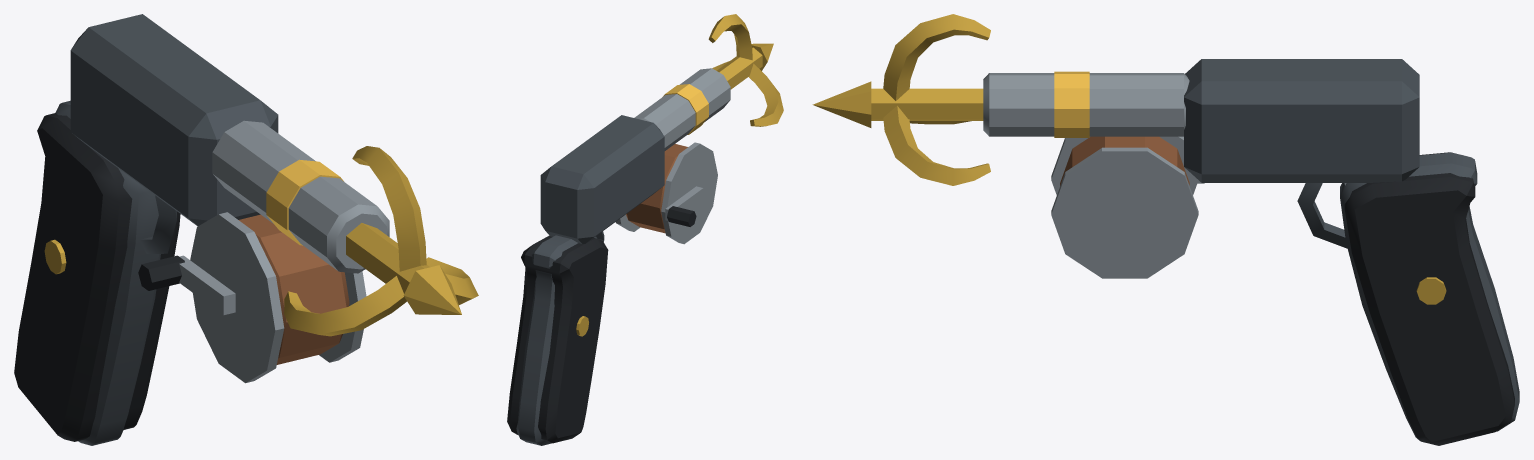
Rendered from Tool_Grapple.fbx.
3 renders of one model, left to right at view 1: azimuth 30°, elevation 25°; view 2: azimuth 150°, elevation 25°; view 3: azimuth 270°, elevation 25°, orthographic. The views are drawn at different scales.
Parts seen in each view (by area): view 1: Grapple; view 2: Grapple; view 3: Grapple.
Boxes of the visible parts, bbox=[...] form: Grapple: bbox=[14, 14, 478, 445]; Grapple: bbox=[507, 14, 783, 445]; Grapple: bbox=[812, 14, 1519, 445].
Bounding box in the file's own units: 0.5964 × 1.6 × 2.4.
